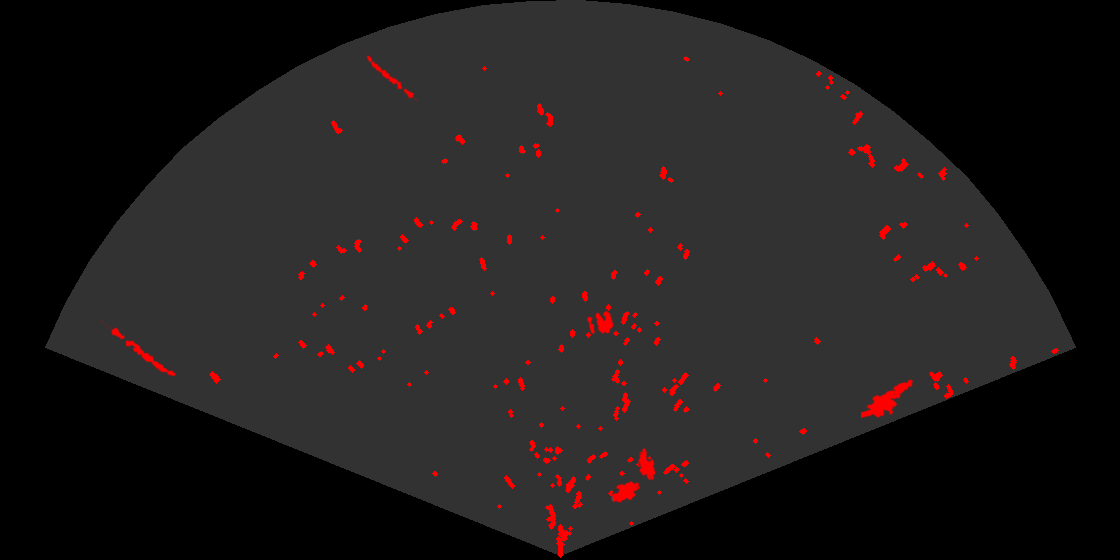AUV: (610, 480, 642, 504), (637, 446, 658, 482)
ball: (586, 309, 615, 336)
chain: (100, 320, 177, 378), (359, 51, 418, 104)
frogman: (861, 378, 915, 420)
